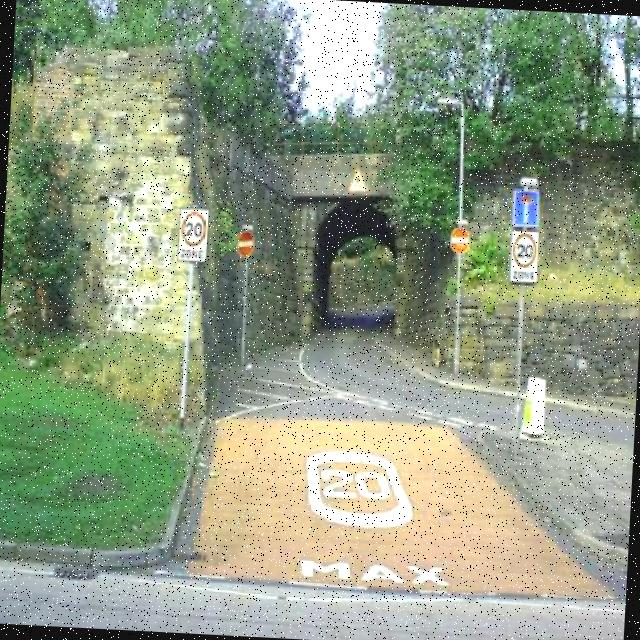Zakaz wjazdu: (446, 221, 474, 259), (234, 230, 258, 260)
